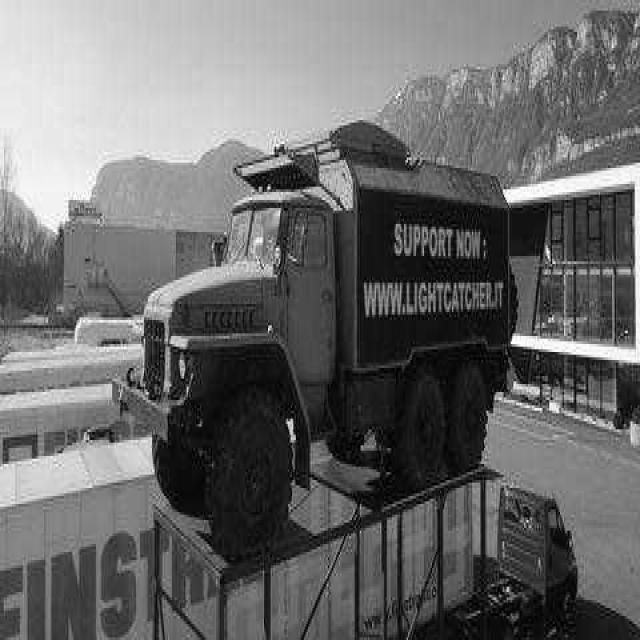Truck: (119, 122, 510, 558)
